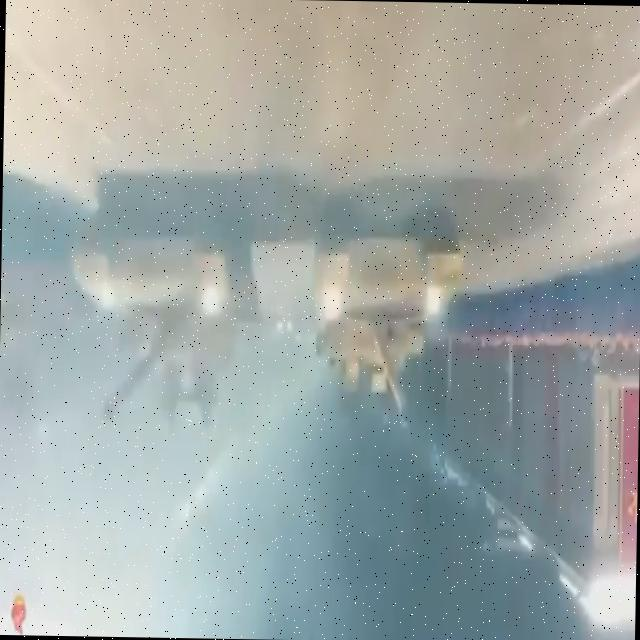north tank: (62, 182, 274, 438), (308, 174, 492, 455)
